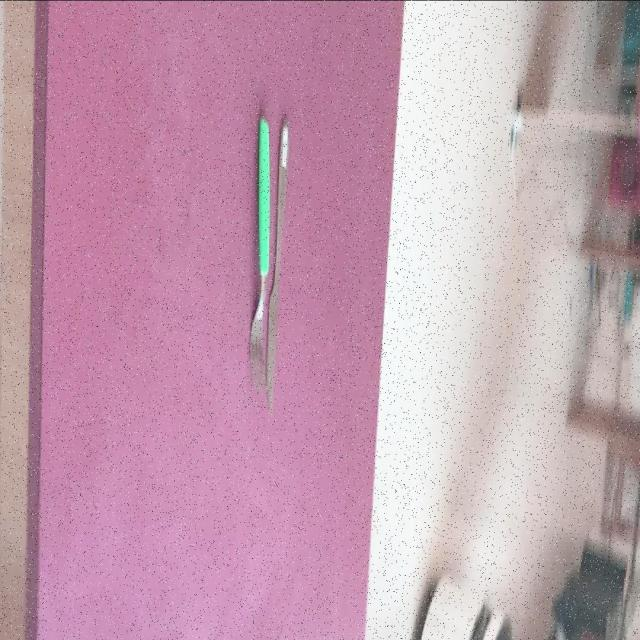Fork: (248, 113, 270, 391)
Knife: (264, 116, 289, 414)
